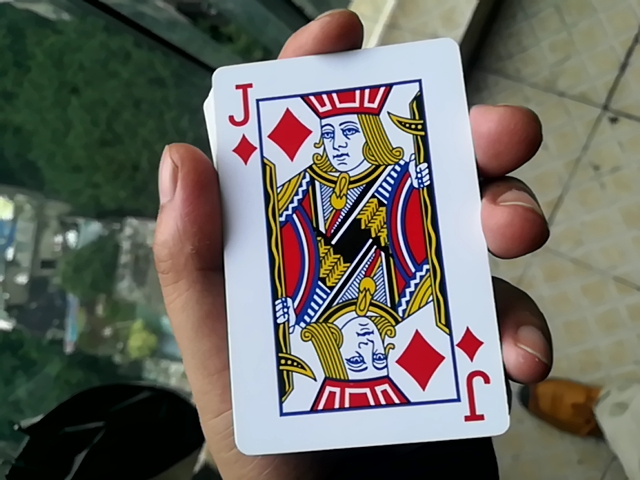fk j: (190, 43, 515, 449)
